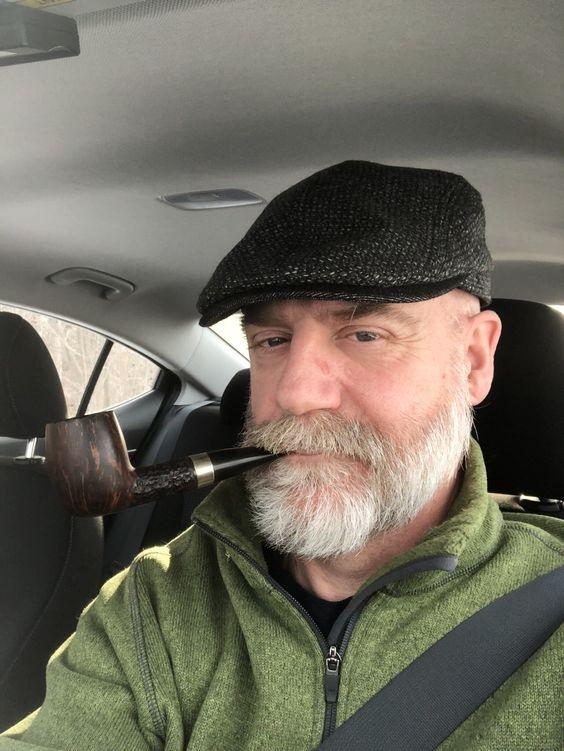trubka: (44, 411, 271, 515)
